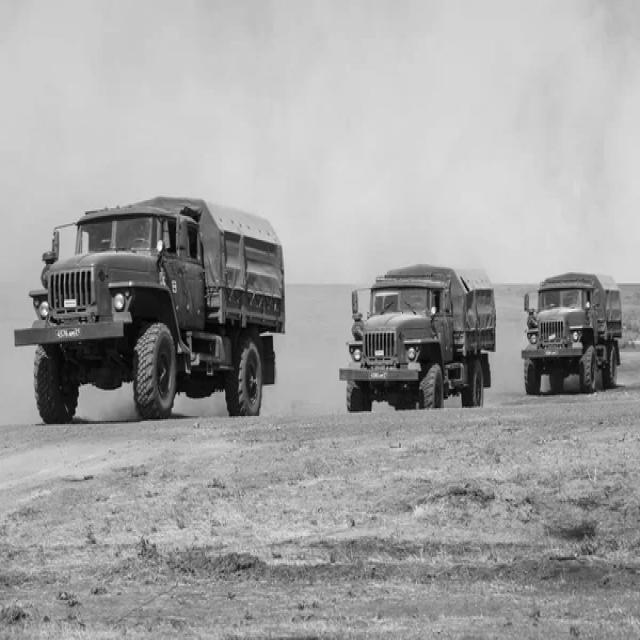Truck: (14, 197, 285, 424), (340, 264, 497, 412), (523, 272, 624, 394)
